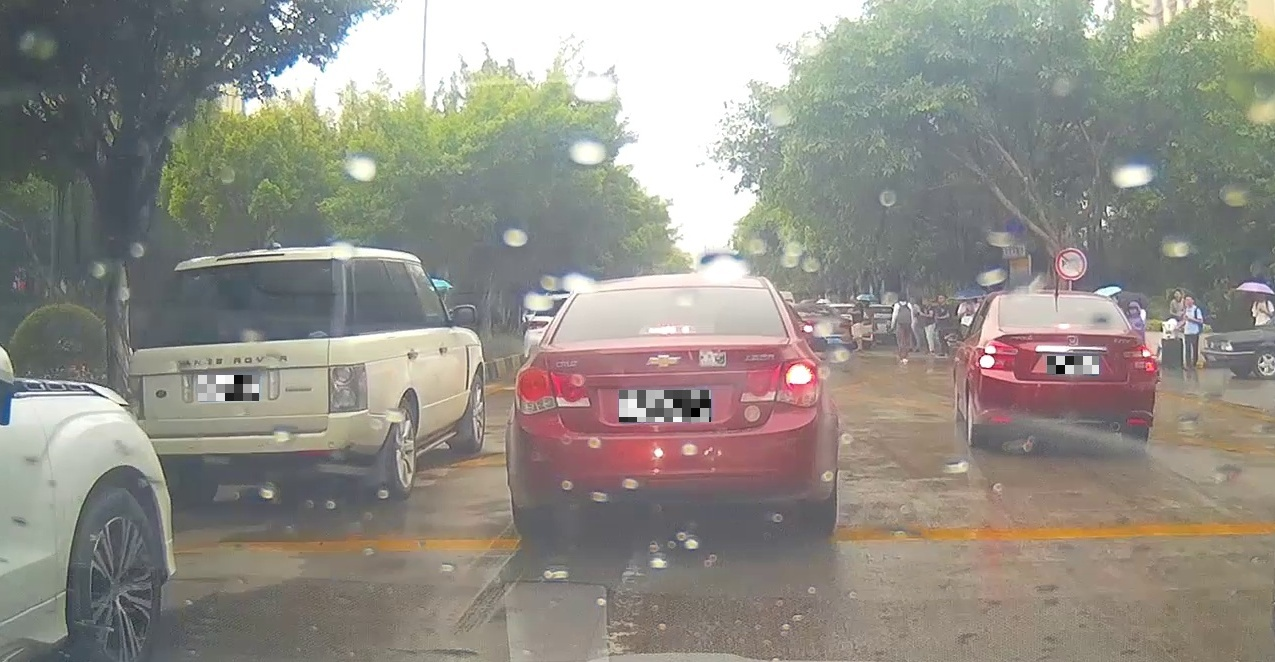L_light: (514, 366, 591, 415), (979, 340, 1018, 369), (127, 375, 147, 420)
R_light: (739, 357, 823, 408), (329, 363, 368, 413), (1122, 344, 1156, 371)
T_light: (217, 253, 286, 261), (641, 325, 696, 334), (1052, 323, 1078, 328)
day-brake: (977, 289, 1158, 453)
day-no: (126, 245, 369, 511)
day-right: (504, 274, 837, 536)
plate_1: (198, 375, 259, 401)
plate_2: (619, 390, 711, 422)
plate_3: (1047, 356, 1099, 374)
